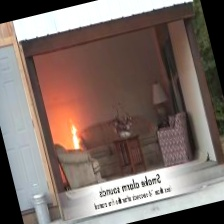fire: (59, 113, 91, 155)
